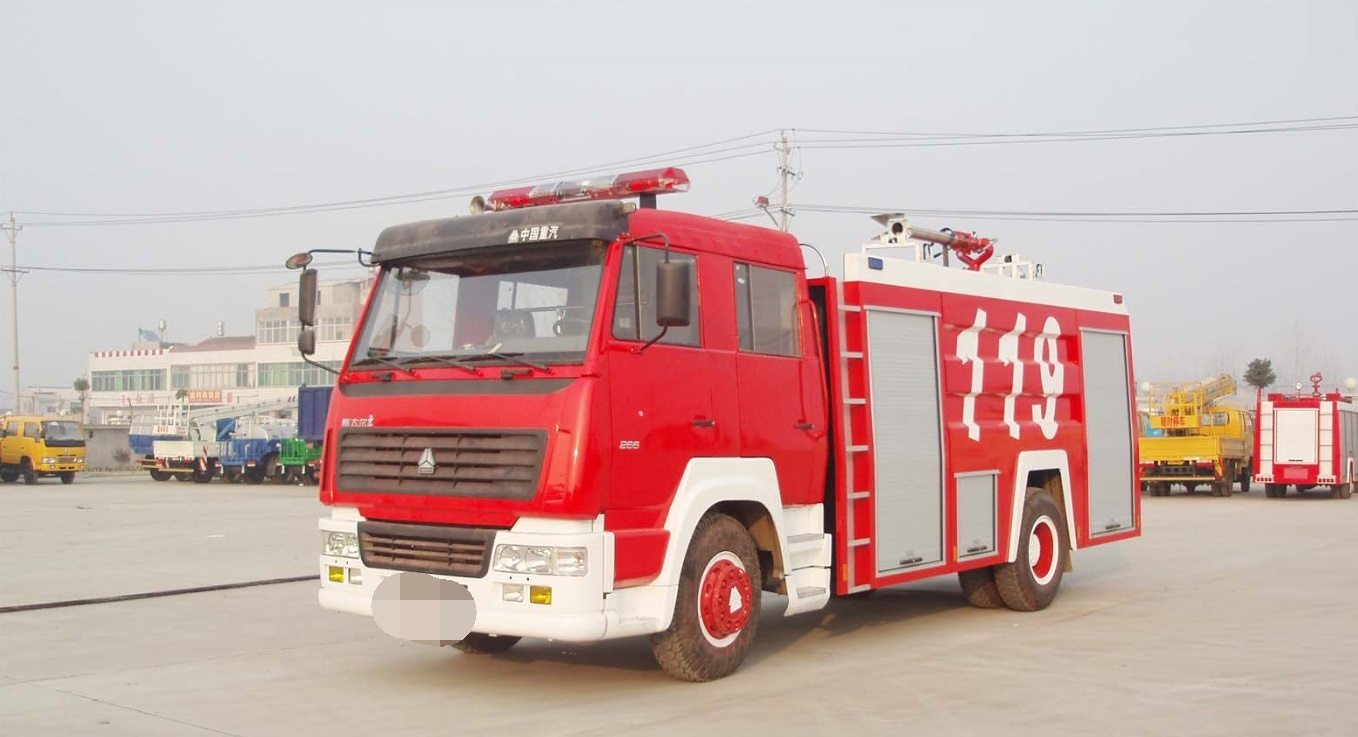fire engine: (287, 163, 1153, 666)
